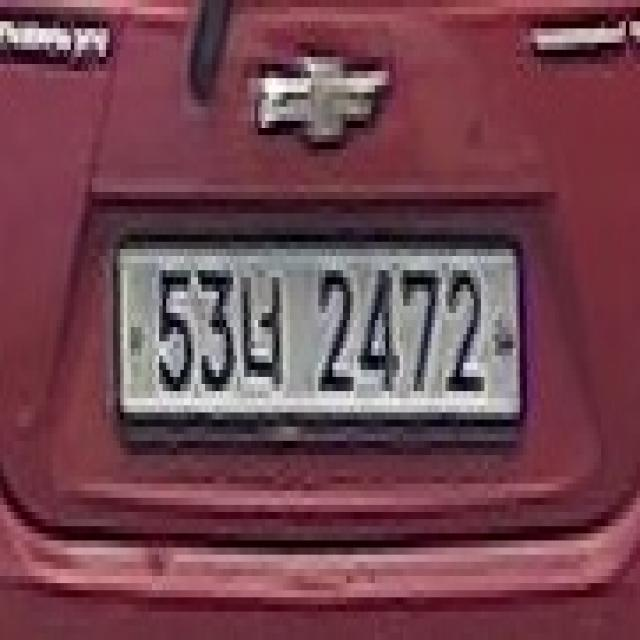2: (307, 256, 353, 391), (442, 270, 484, 398)
3: (187, 256, 237, 391)
4: (361, 263, 403, 384)
5: (149, 256, 198, 391)
7: (396, 263, 453, 384)
license_plate: (106, 227, 534, 441)
neo: (233, 263, 283, 398)
